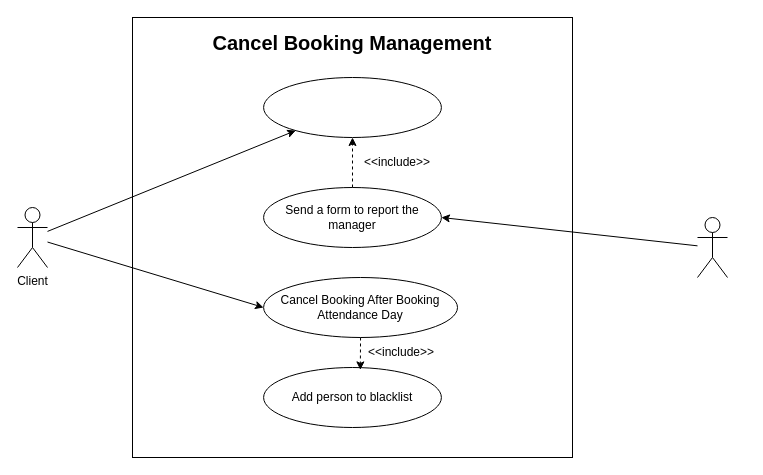
Image size: 763x475. Some labels were removed from this diagram. The shapes that lost their labels are listed below. From the top down, each one's centre as x and y in pixels, then its label:
(x=352, y=107): Cancel Booking Before Booking Attendance Day
(x=712, y=247): Receptionist
